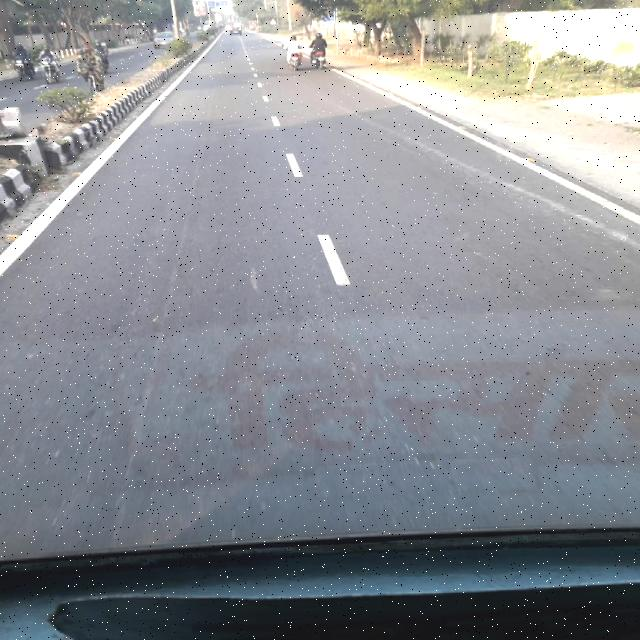D00: (113, 114, 217, 530)
